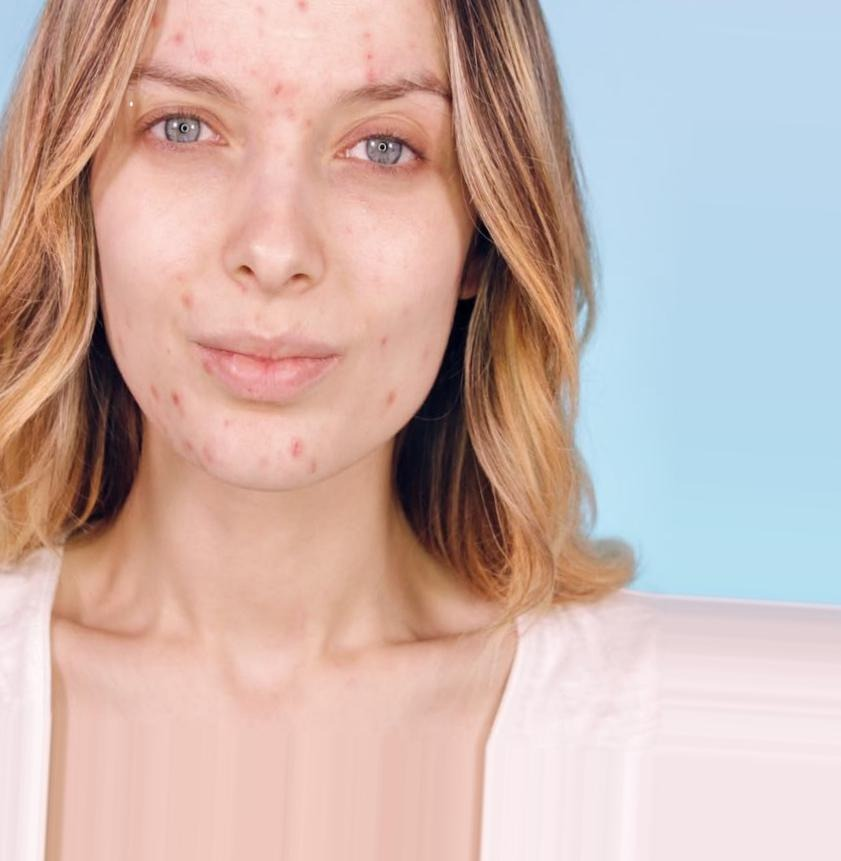Acne: (153, 3, 429, 485)
